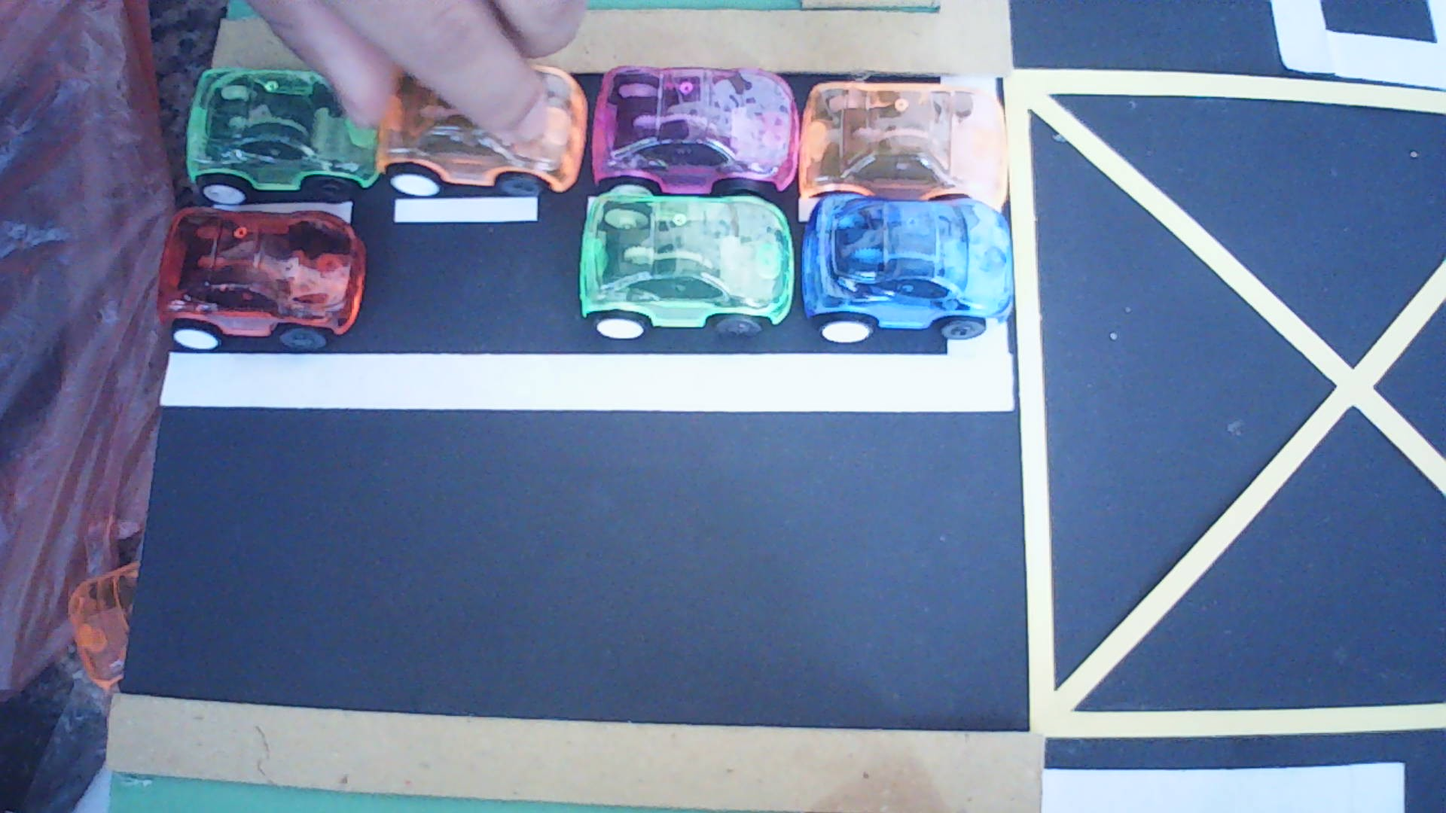Mobil biru: (801, 193, 1013, 343)
Mobil hijau: (578, 186, 794, 338), (186, 69, 378, 204)
Mobil merah: (159, 207, 366, 352)
Mobil orange: (799, 81, 1006, 212), (377, 67, 586, 196)
Mobil ungu: (593, 68, 798, 193)
